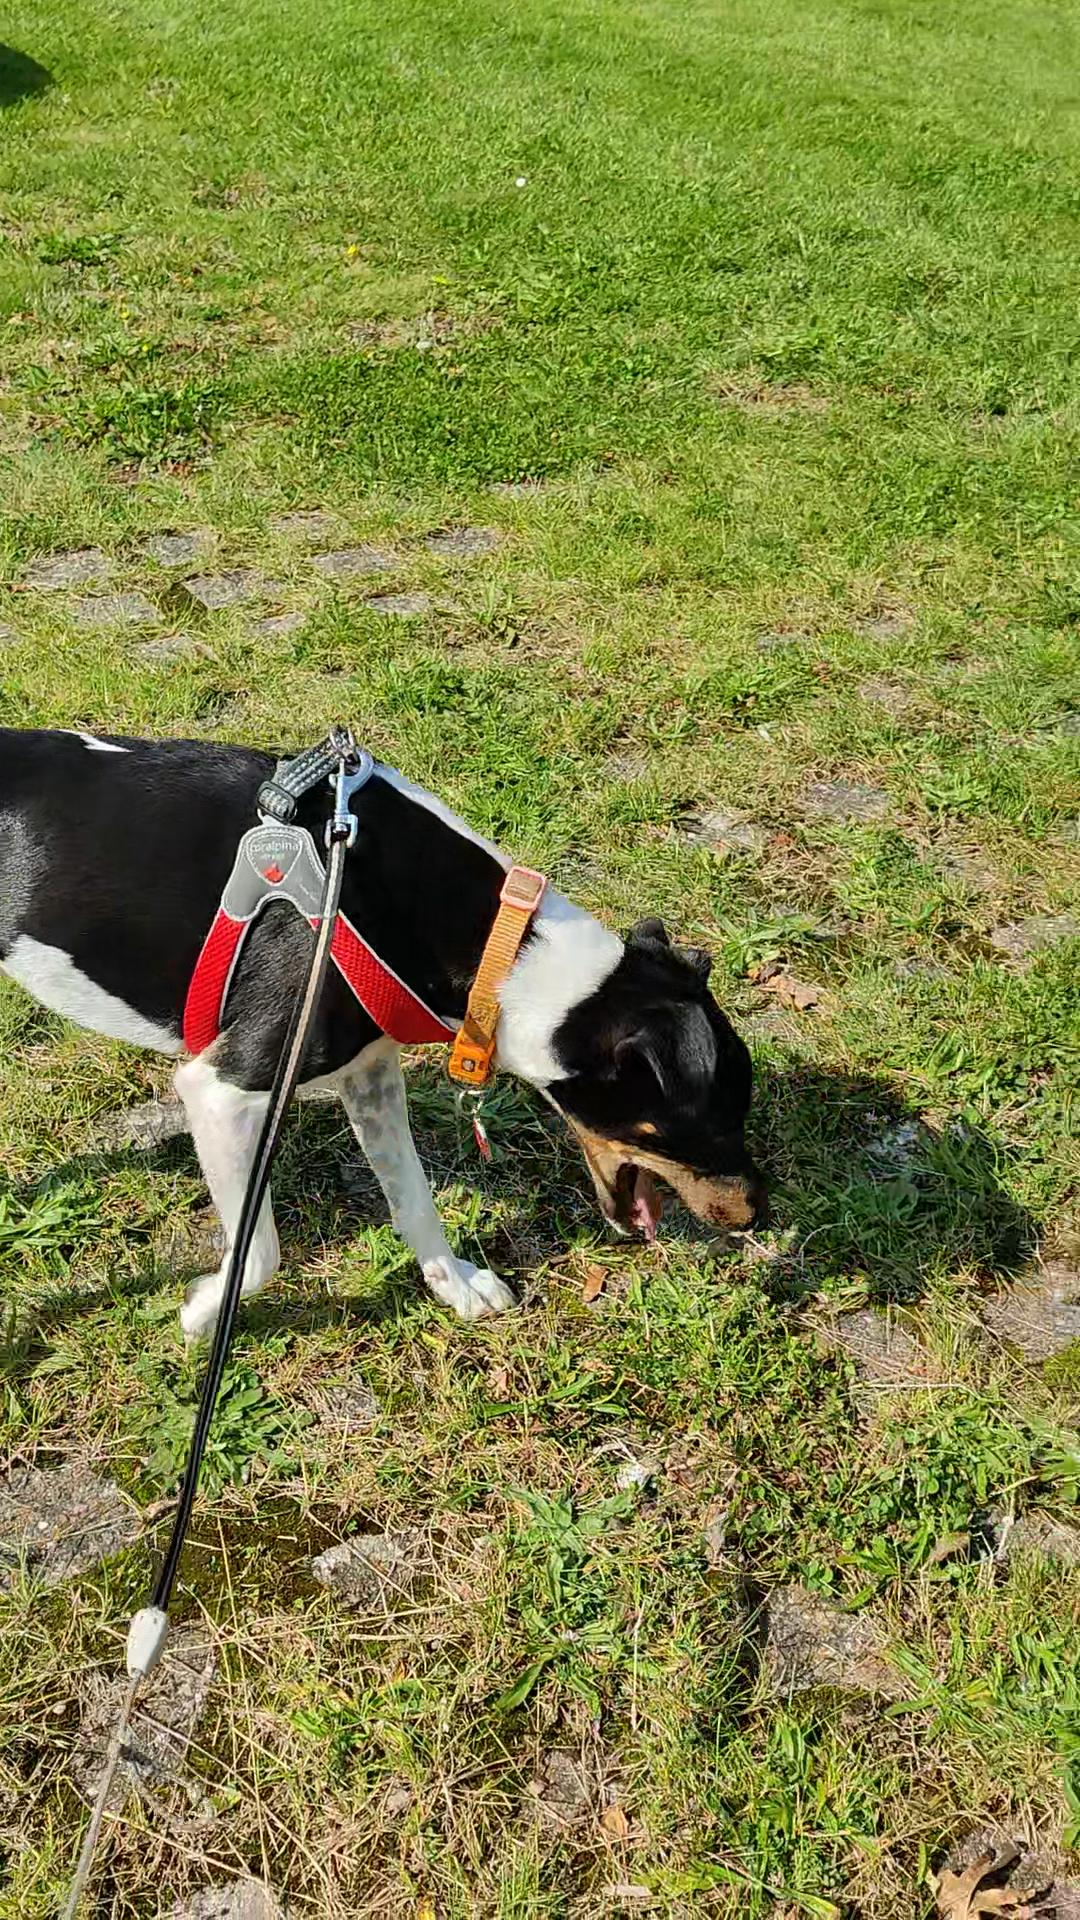Dog: (0, 708, 777, 1357)
